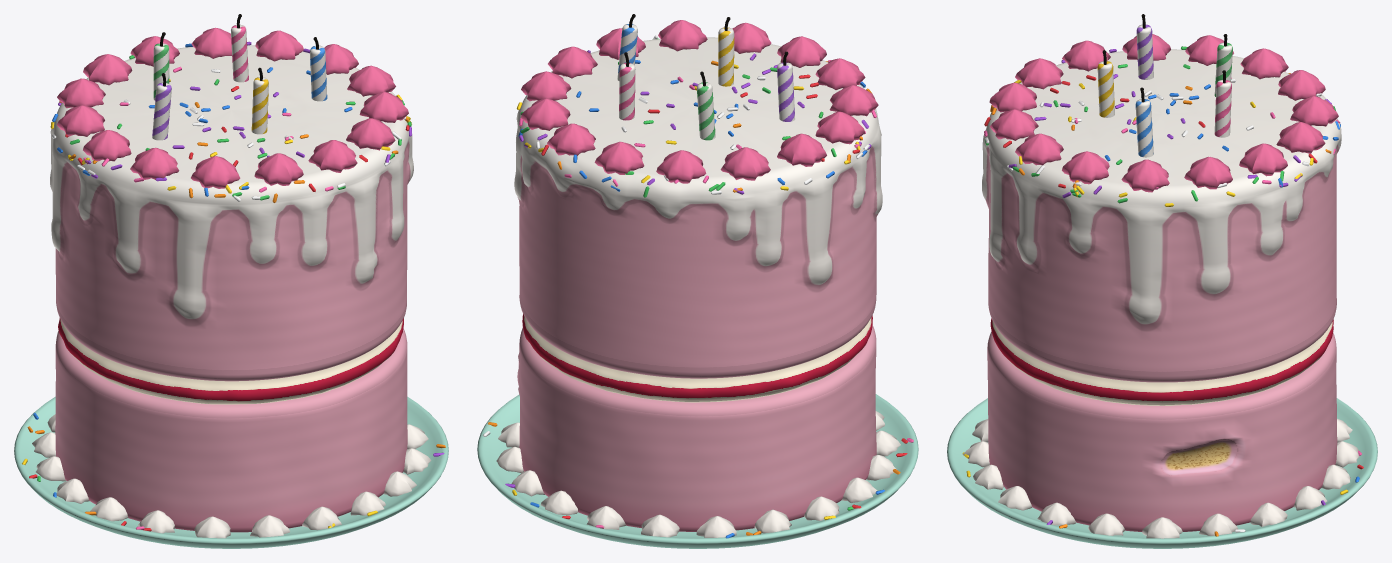
Rendered from cake.glb.
The picture shows the model from 3 angles, left to right: view 1: azimuth 30°, elevation 25°; view 2: azimuth 150°, elevation 25°; view 3: azimuth 270°, elevation 25°; orthographic projection. The views are drawn at different scales.
Parts seen in each view (by area): view 1: cake; view 2: cake; view 3: cake.
Part boxes in pixels (x1,y1,x2,y2): cake: (14, 14, 448, 548); cake: (477, 14, 918, 548); cake: (947, 14, 1377, 548).
Size of the model in its own units: 0.94 by 1 by 0.94.
7 materials, 3 textured.
